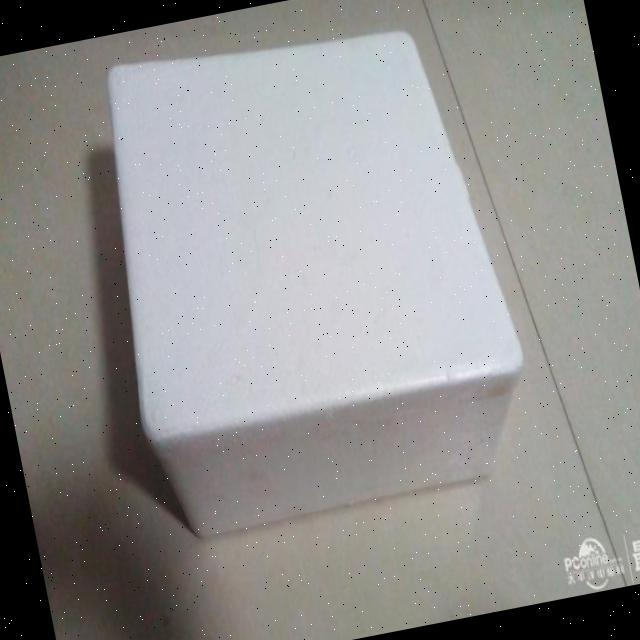styrofoam: (71, 0, 547, 547)
